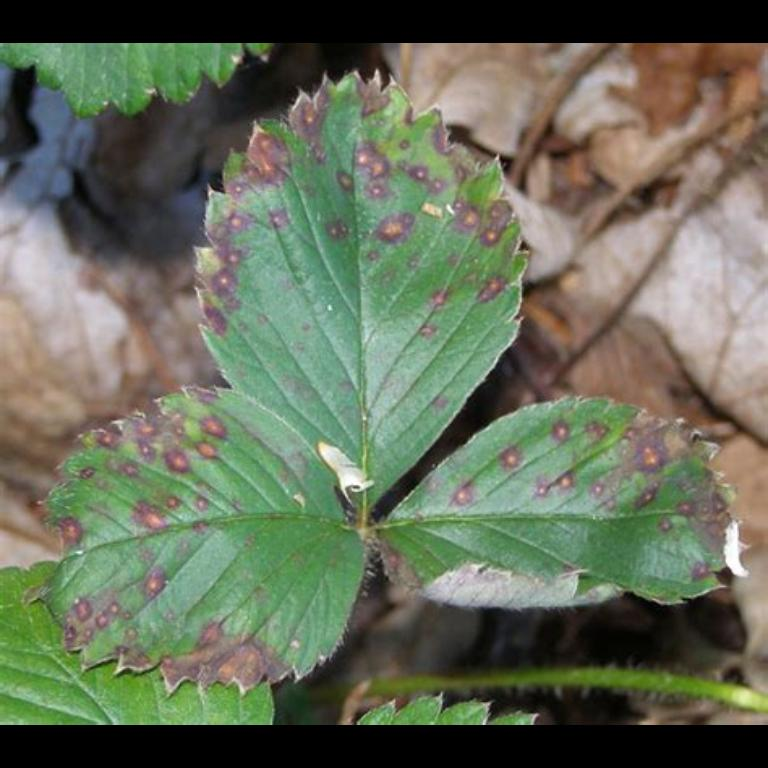blight: (169, 608, 297, 690), (612, 413, 696, 523)
